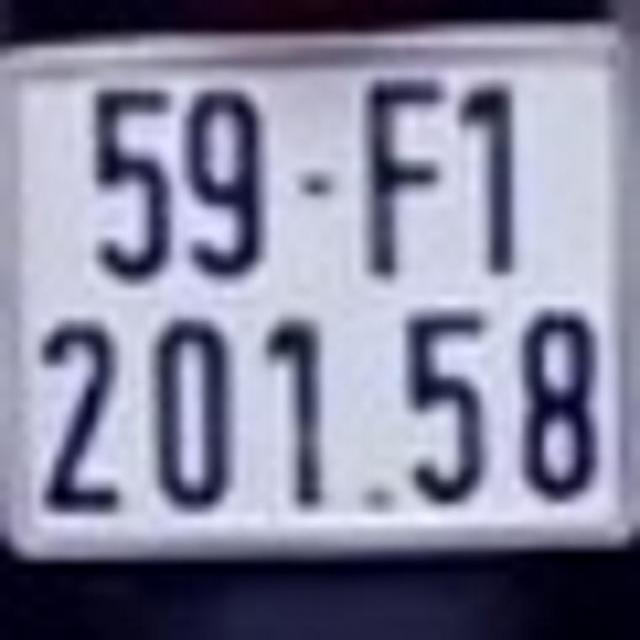0: (143, 309, 236, 516)
1: (455, 72, 524, 286), (258, 311, 332, 508)
2: (36, 313, 123, 520)
5: (399, 301, 493, 508), (87, 75, 177, 288)
8: (514, 300, 606, 503)
9: (184, 83, 268, 287)
F: (353, 68, 450, 286)
